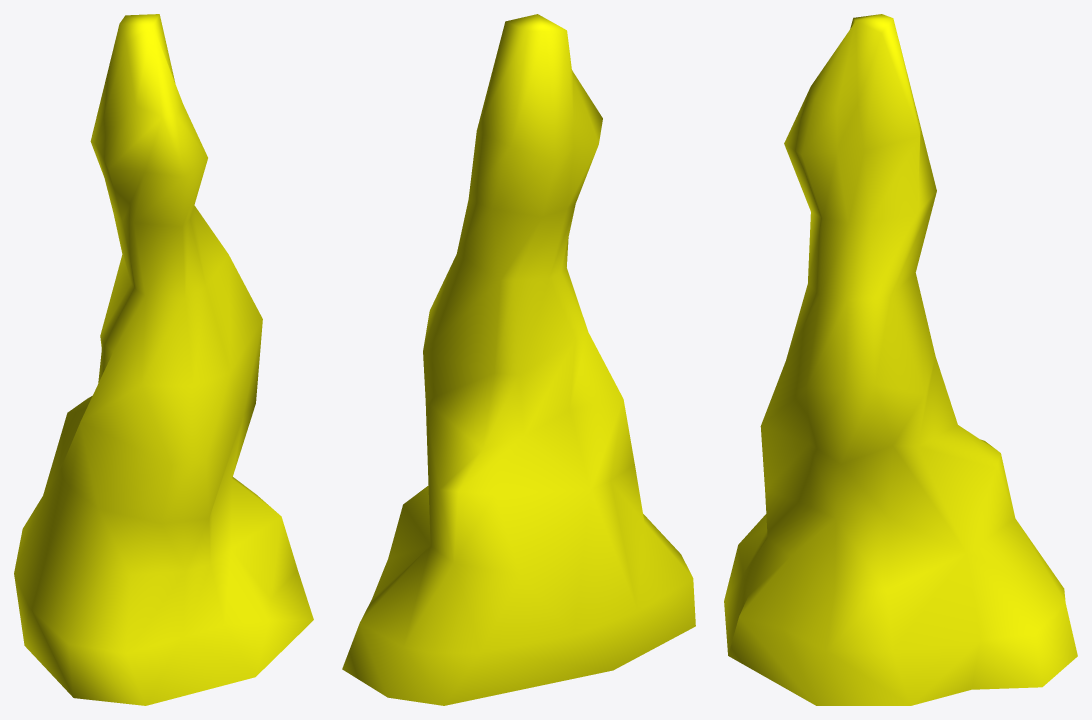
The model's file is general_obj_bigstone02.glb.
3 renders of one model, left to right at view 1: azimuth 30°, elevation 25°; view 2: azimuth 150°, elevation 25°; view 3: azimuth 270°, elevation 25°, orthographic.
Parts seen in each view (by area): view 1: Sphere01; view 2: Sphere01; view 3: Sphere01.
Boxes of the visible parts, <box> form: Sphere01: <box>14,14,313,705</box>; Sphere01: <box>342,14,695,705</box>; Sphere01: <box>724,14,1077,705</box>.
Size of the model in its own units: 19.08 by 42.85 by 22.32.
1 material, 1 textured.
